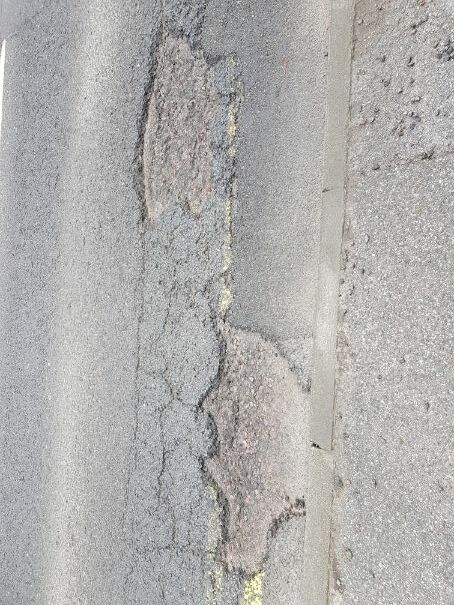pothole: (189, 314, 311, 581), (124, 13, 242, 230)
